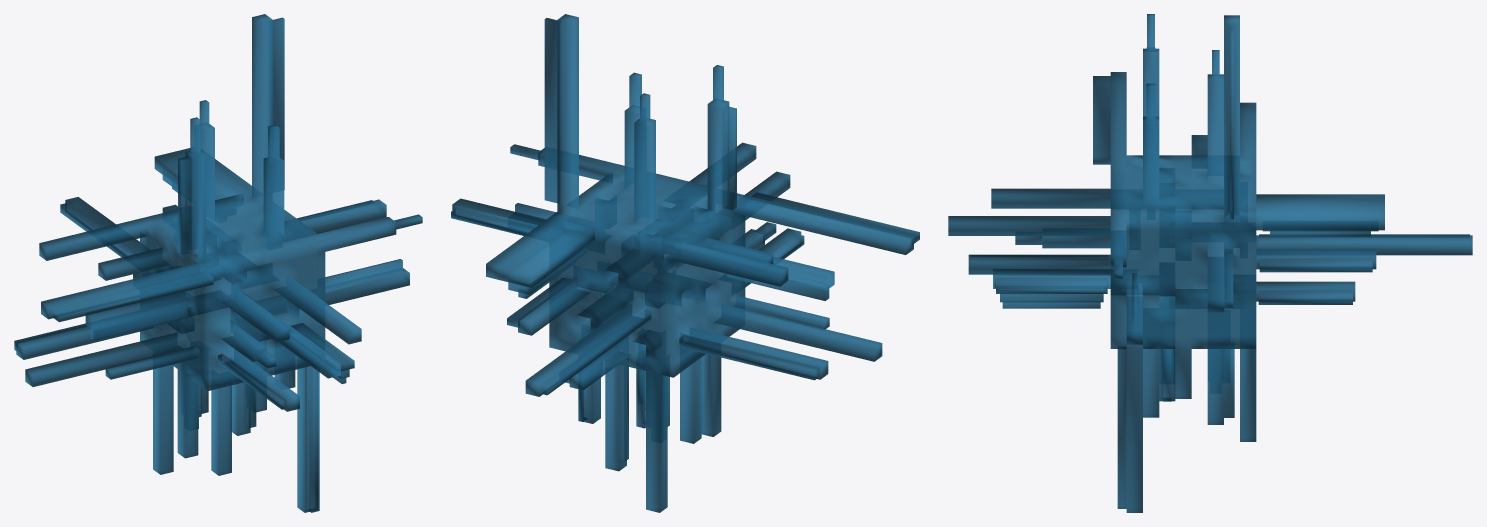
The picture shows the model from 3 angles, left to right: view 1: azimuth 30°, elevation 25°; view 2: azimuth 150°, elevation 25°; view 3: azimuth 270°, elevation 25°; orthographic projection. The views are drawn at different scales.
Parts seen in each view (by area): view 1: Cube; view 2: Cube; view 3: Cube.
Part boxes in pixels (x1,y1,x2,y2): Cube: [14, 14, 422, 512]; Cube: [451, 14, 919, 512]; Cube: [948, 14, 1472, 512].
Size of the model in its own units: 6.53 by 7.43 by 7.2.
